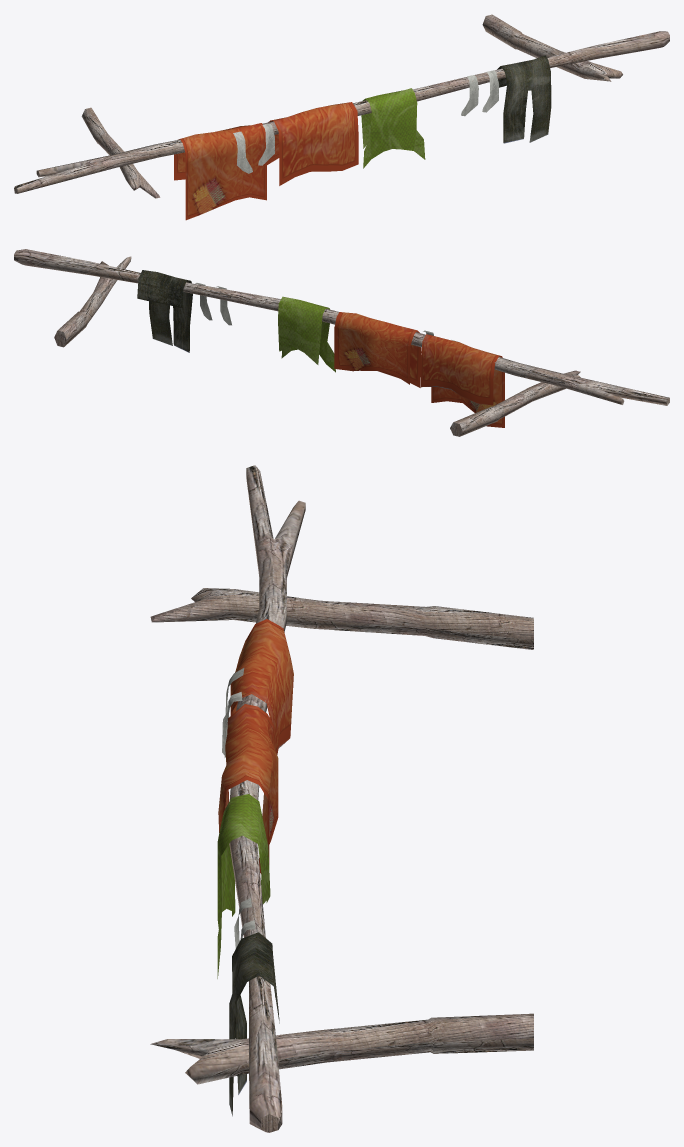
The model's file is M_Home_Garden_ClothHanger04.fbx.
3 renders of one model, top to bottom at view 1: azimuth 30°, elevation 25°; view 2: azimuth 150°, elevation 25°; view 3: azimuth 270°, elevation 25°, orthographic. The views are drawn at different scales.
Visible parts, largest first — view 1: M_Home_Garden_ClothHanger04; view 2: M_Home_Garden_ClothHanger04; view 3: M_Home_Garden_ClothHanger04.
Part boxes in pixels (x1,y1,x2,y2): M_Home_Garden_ClothHanger04: (14, 14, 669, 220); M_Home_Garden_ClothHanger04: (14, 249, 669, 436); M_Home_Garden_ClothHanger04: (150, 465, 533, 1132).
Bounding box in the file's own units: 440 × 52.47 × 113.
